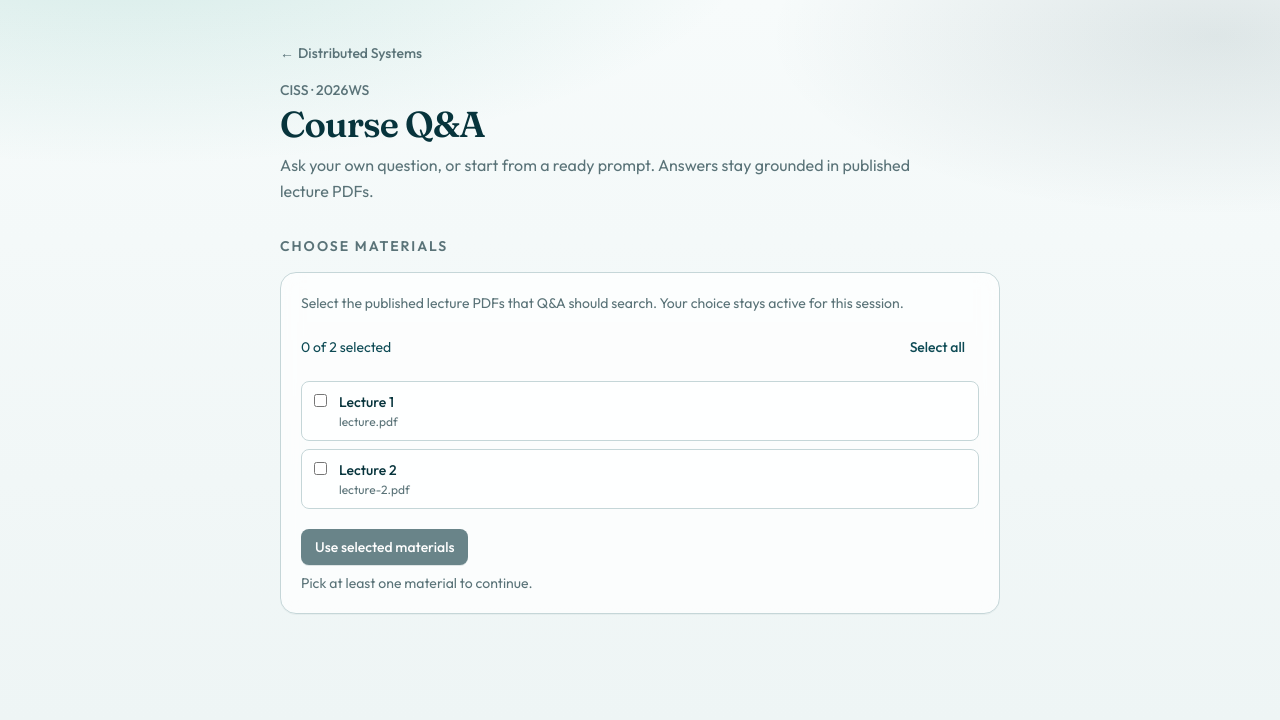
Test: course Q&A page › can clear and select all Q&A materials
Expected: the text "0 of 2 selected" is shown, [301,337,391,357]
Expected: the button "Use selected materials" is disabled, [301,529,468,565]
What coordinates should you click on to do the following:
click the button "Select all"
I would click on:
 (937, 347)
Its box is [896,329,979,365].
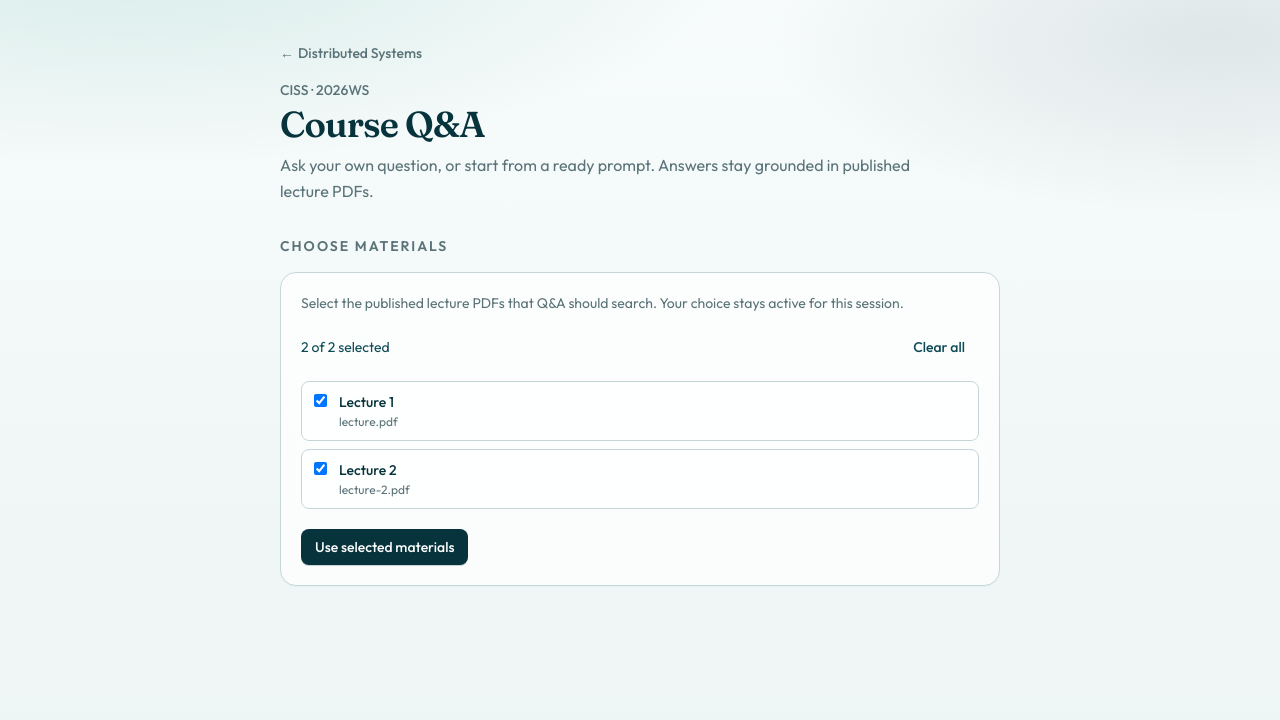
Now the text "2 of 2 selected" is shown, box [301,337,390,357]
What coordinates should you click on to do the following:
click the button "Clear all"
I would click on:
 (939, 347)
Its box is [899,329,979,365].
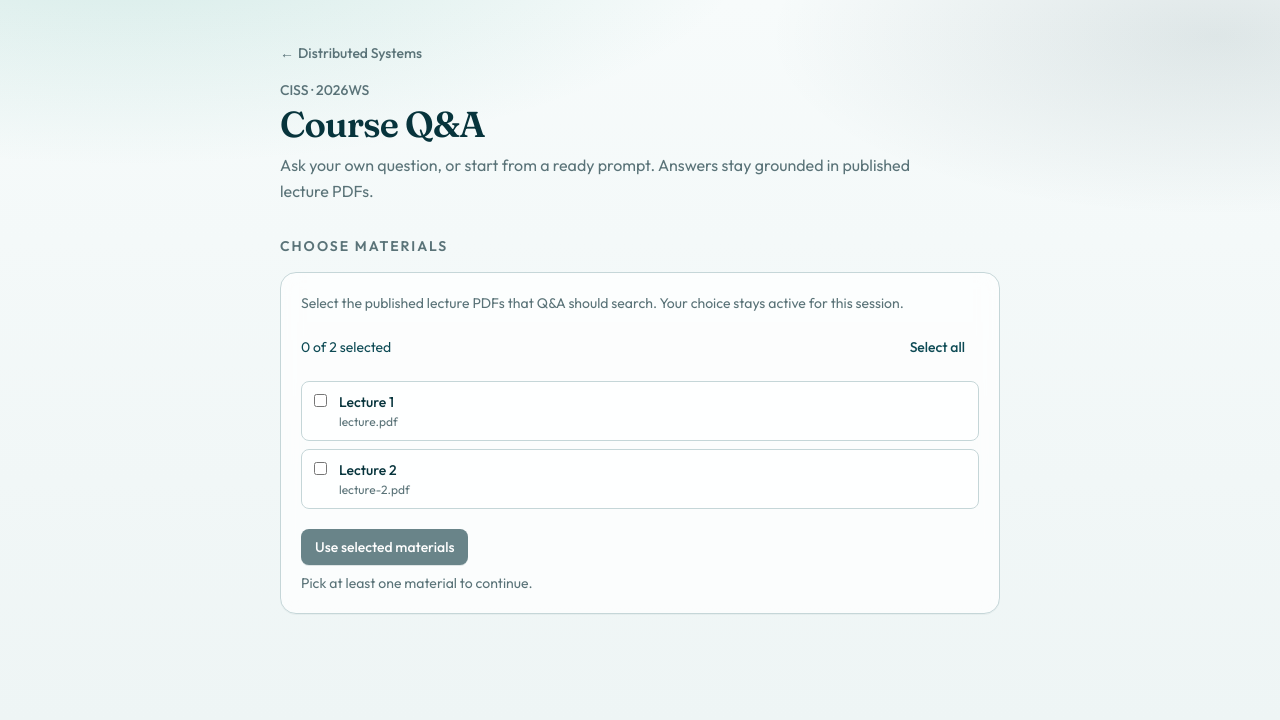
Now the text "0 of 2 selected" is shown, box [301,337,391,357]
